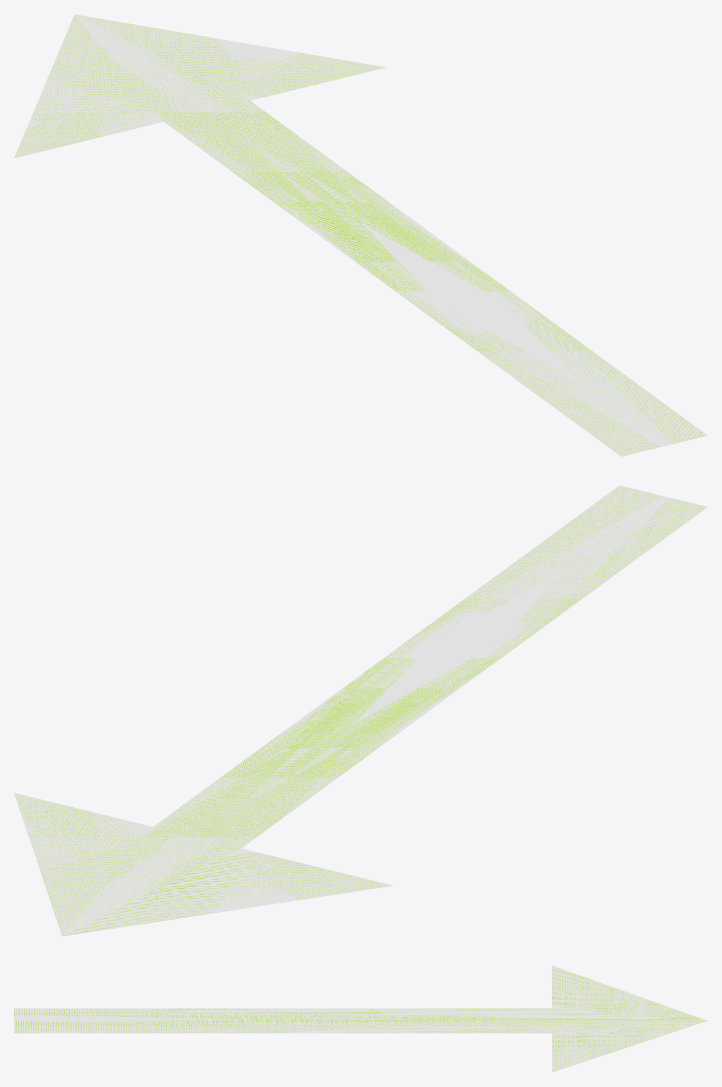
The model's file is arrow113.dae.
3 renders of one model, top to bottom at view 1: azimuth 30°, elevation 25°; view 2: azimuth 150°, elevation 25°; view 3: azimuth 270°, elevation 25°, orthographic. The views are drawn at different scales.
Parts seen in each view (by area): view 1: SketchUp; view 2: SketchUp; view 3: SketchUp.
Boxes of the visible parts, x1,y1,x2,y2 form: SketchUp: (14,14,707,456); SketchUp: (14,485,707,936); SketchUp: (14,965,707,1072).
Size of the model in its own units: 168 by 462 by 0.
